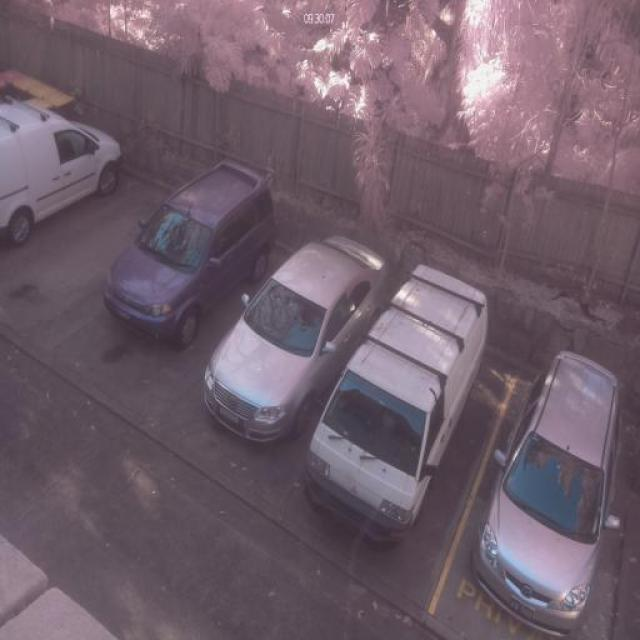Legalparking: (122, 105, 640, 621), (0, 47, 125, 274)
